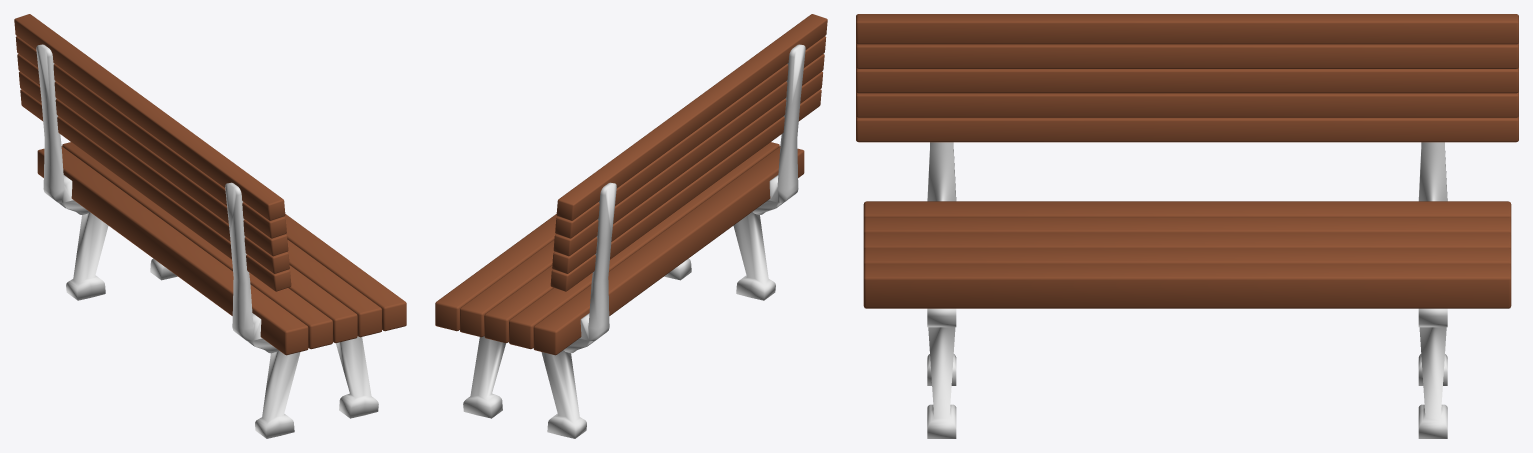
Rendered from Bench.fbx.
3 renders of one model, left to right at view 1: azimuth 30°, elevation 25°; view 2: azimuth 150°, elevation 25°; view 3: azimuth 270°, elevation 25°, orthographic. The views are drawn at different scales.
Parts seen in each view (by area): view 1: Cube; view 2: Cube; view 3: Cube.
Part boxes in pixels (left/top/right/bottom): Cube: left=14, top=14, right=406, bottom=438; Cube: left=435, top=14, right=827, bottom=438; Cube: left=856, top=14, right=1518, bottom=438.
Size of the model in its own units: 125 by 214 by 377.
